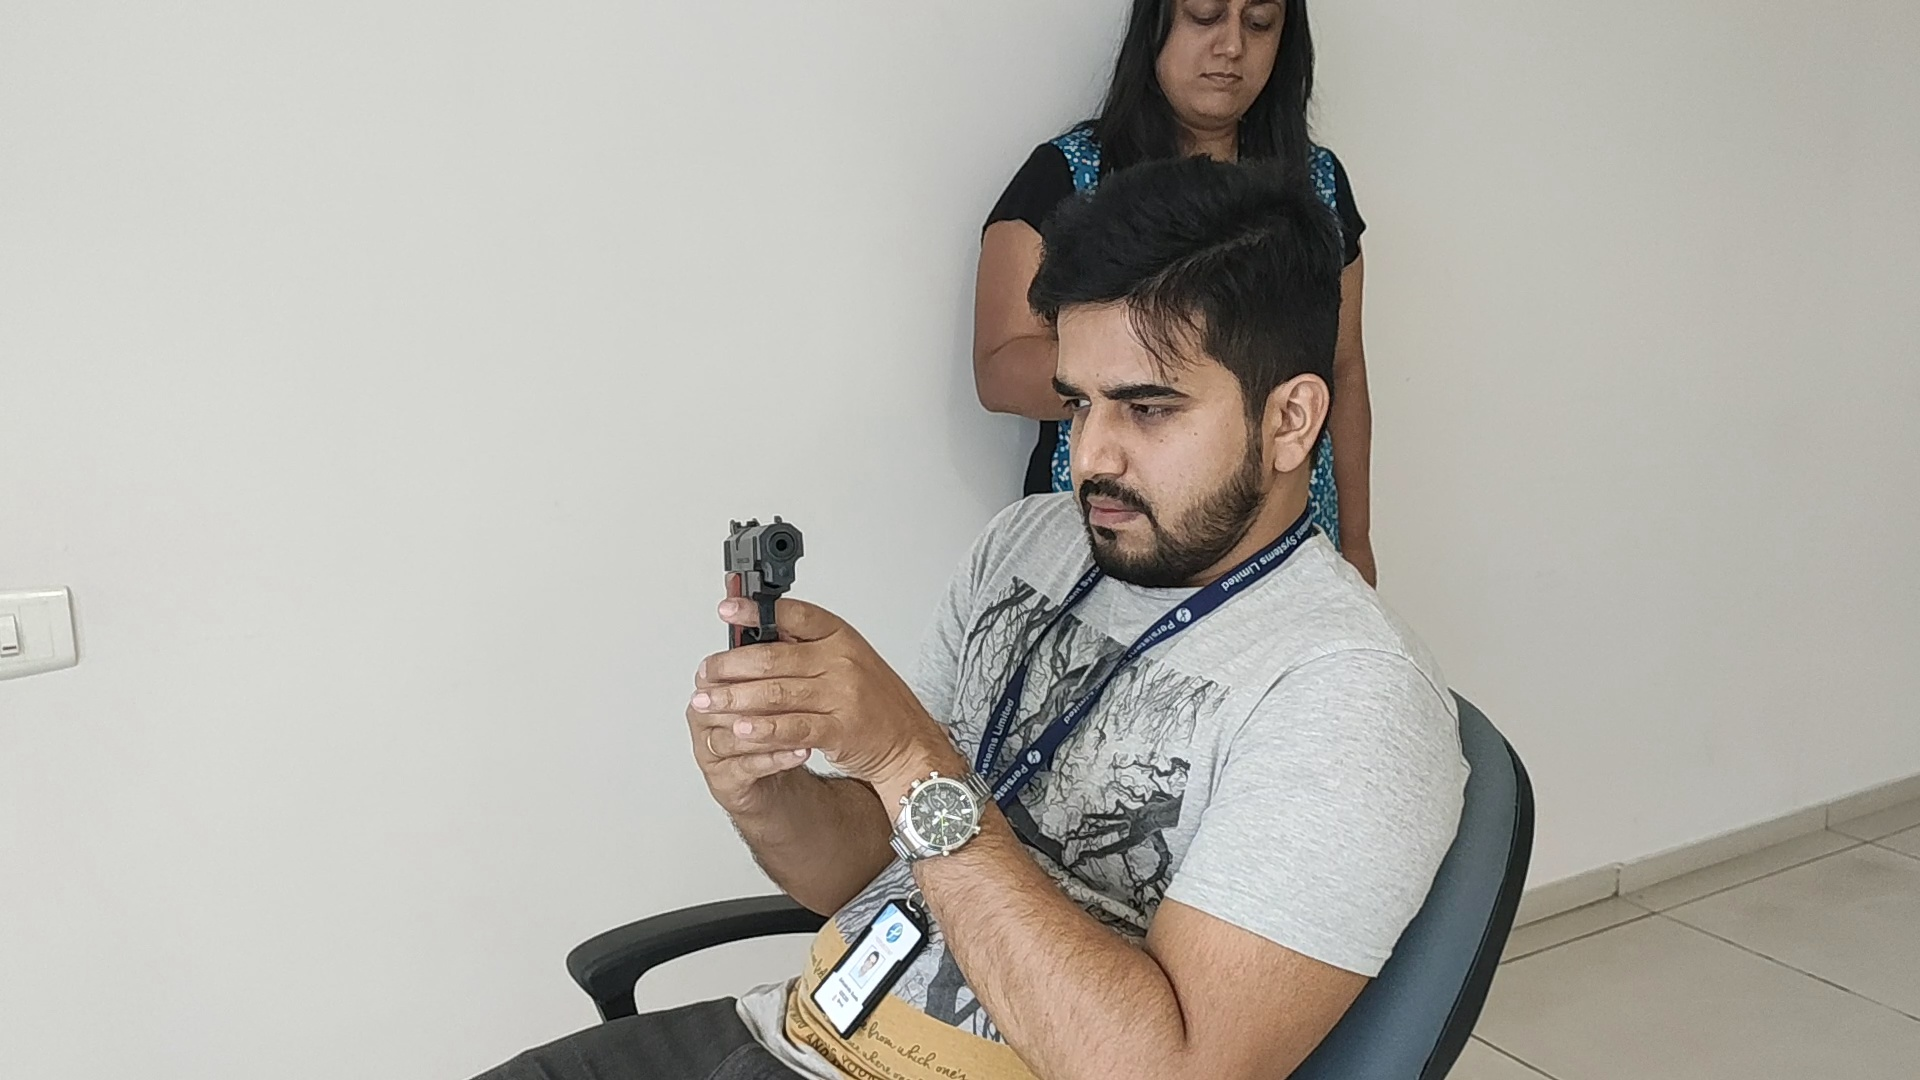gun: (720, 514, 806, 646)
